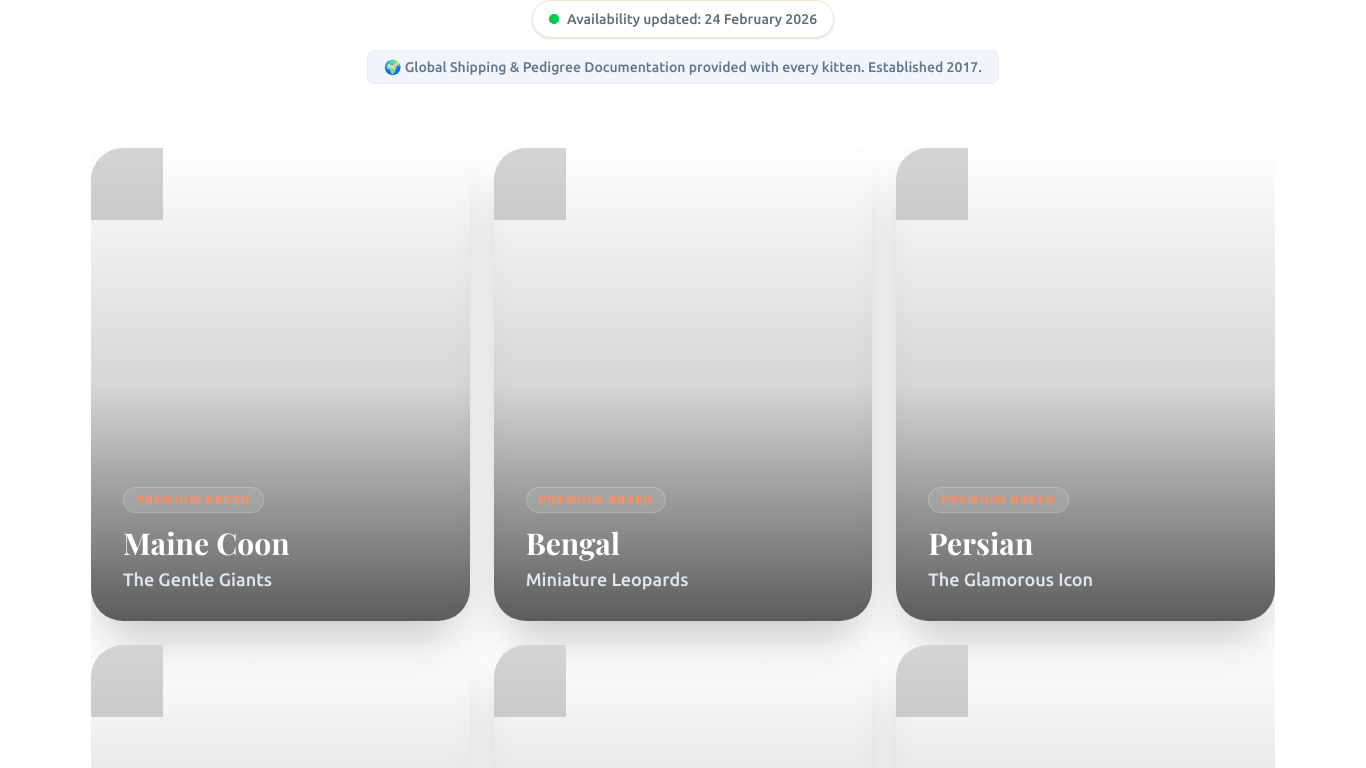
Test: BreedShowcase › closes modal when close button is clicked
(page scrolled)
// Open modal
Click the button with aria-label "View details for Bengal" at (683, 385), box [494,148,872,621]
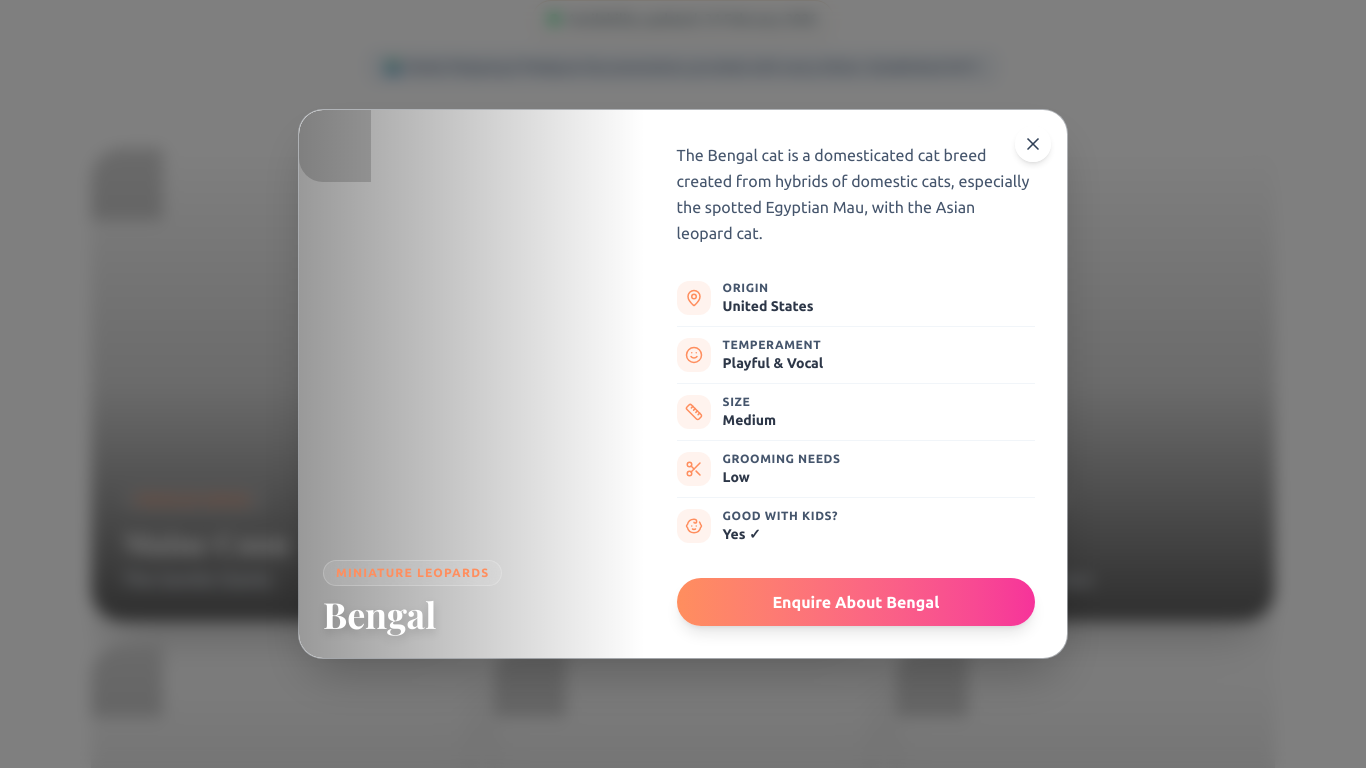
Check: the text "Origin" is shown, box [723,281,769,294]
// Click close button
Click the button named "Close modal" at (1033, 144), box [1015,126,1051,162]
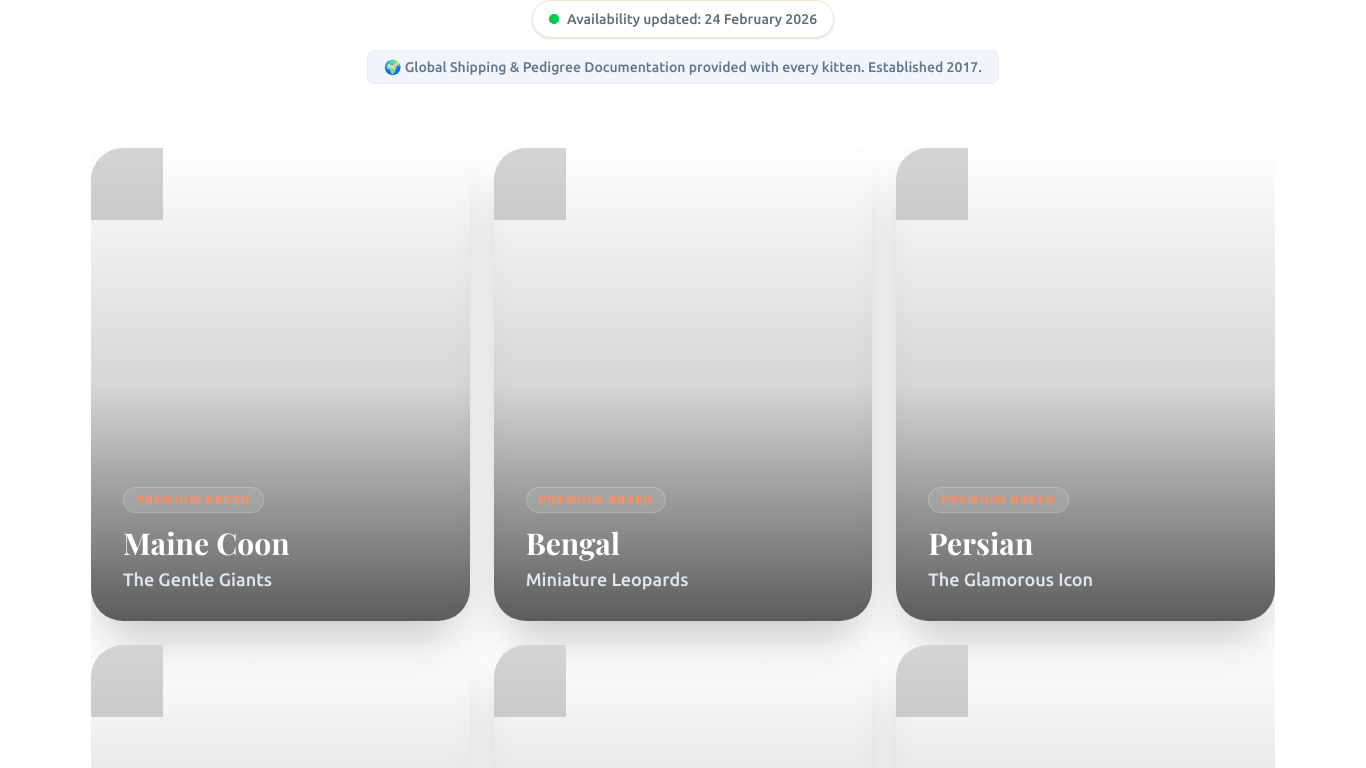
Check: the text "Origin" is gone
